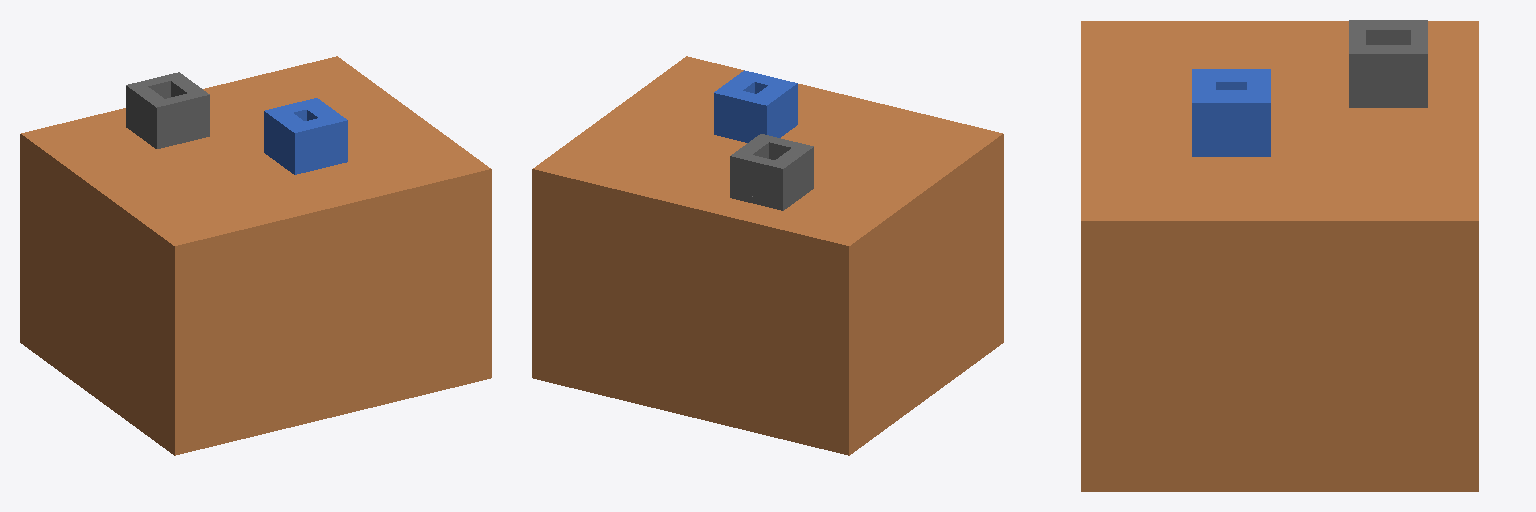
robot.urdf — peg_in_hole_fixtured_scene_0020_peg0011_tol04:
<?xml version="1.0"?>
<robot name="peg_in_hole_fixtured_scene_0020_peg0011_tol04">
  <material name="wood"><color rgba="0.82 0.56 0.35 1.0"/></material>
  <material name="start_fix"><color rgba="0.30 0.50 0.85 1.0"/></material>
  <material name="goal_fix"><color rgba="0.4706 0.4706 0.4706 1.0"/></material>
  <link name="box">
    <visual>
      <origin xyz="0.000000 0.000000 0.000000" rpy="0 0 0"/>
      <geometry><box size="0.475000 0.400000 0.300000"/></geometry>
      <material name="wood"/>
    </visual>
    <collision>
      <origin xyz="0.000000 0.000000 0.000000" rpy="0 0 0"/>
      <geometry><box size="0.475000 0.400000 0.300000"/></geometry>
    </collision>
    <visual>
      <origin xyz="0.046668 -0.048674 0.155000" rpy="0 0 0"/>
      <geometry><box size="0.080000 0.080000 0.010000"/></geometry>
      <material name="start_fix"/>
    </visual>
    <collision>
      <origin xyz="0.046668 -0.048674 0.155000" rpy="0 0 0"/>
      <geometry><box size="0.080000 0.080000 0.010000"/></geometry>
    </collision>
    <visual>
      <origin xyz="0.071918 -0.048674 0.185000" rpy="0 0 0"/>
      <geometry><box size="0.029500 0.080000 0.050000"/></geometry>
      <material name="start_fix"/>
    </visual>
    <collision>
      <origin xyz="0.071918 -0.048674 0.185000" rpy="0 0 0"/>
      <geometry><box size="0.029500 0.080000 0.050000"/></geometry>
    </collision>
    <visual>
      <origin xyz="0.021418 -0.048674 0.185000" rpy="0 0 0"/>
      <geometry><box size="0.029500 0.080000 0.050000"/></geometry>
      <material name="start_fix"/>
    </visual>
    <collision>
      <origin xyz="0.021418 -0.048674 0.185000" rpy="0 0 0"/>
      <geometry><box size="0.029500 0.080000 0.050000"/></geometry>
    </collision>
    <visual>
      <origin xyz="0.046668 -0.020924 0.185000" rpy="0 0 0"/>
      <geometry><box size="0.021000 0.024500 0.050000"/></geometry>
      <material name="start_fix"/>
    </visual>
    <collision>
      <origin xyz="0.046668 -0.020924 0.185000" rpy="0 0 0"/>
      <geometry><box size="0.021000 0.024500 0.050000"/></geometry>
    </collision>
    <visual>
      <origin xyz="0.046668 -0.076424 0.185000" rpy="0 0 0"/>
      <geometry><box size="0.021000 0.024500 0.050000"/></geometry>
      <material name="start_fix"/>
    </visual>
    <collision>
      <origin xyz="0.046668 -0.076424 0.185000" rpy="0 0 0"/>
      <geometry><box size="0.021000 0.024500 0.050000"/></geometry>
    </collision>
    <visual>
      <origin xyz="-0.069084 0.108962 0.155000" rpy="0 0 0"/>
      <geometry><box size="0.080000 0.080000 0.010000"/></geometry>
      <material name="goal_fix"/>
    </visual>
    <collision>
      <origin xyz="-0.069084 0.108962 0.155000" rpy="0 0 0"/>
      <geometry><box size="0.080000 0.080000 0.010000"/></geometry>
    </collision>
    <visual>
      <origin xyz="-0.040504 0.108962 0.185000" rpy="0 0 0"/>
      <geometry><box size="0.022841 0.080000 0.050000"/></geometry>
      <material name="goal_fix"/>
    </visual>
    <collision>
      <origin xyz="-0.040504 0.108962 0.185000" rpy="0 0 0"/>
      <geometry><box size="0.022841 0.080000 0.050000"/></geometry>
    </collision>
    <visual>
      <origin xyz="-0.097663 0.108962 0.185000" rpy="0 0 0"/>
      <geometry><box size="0.022841 0.080000 0.050000"/></geometry>
      <material name="goal_fix"/>
    </visual>
    <collision>
      <origin xyz="-0.097663 0.108962 0.185000" rpy="0 0 0"/>
      <geometry><box size="0.022841 0.080000 0.050000"/></geometry>
    </collision>
    <visual>
      <origin xyz="-0.069084 0.140041 0.185000" rpy="0 0 0"/>
      <geometry><box size="0.034318 0.017841 0.050000"/></geometry>
      <material name="goal_fix"/>
    </visual>
    <collision>
      <origin xyz="-0.069084 0.140041 0.185000" rpy="0 0 0"/>
      <geometry><box size="0.034318 0.017841 0.050000"/></geometry>
    </collision>
    <visual>
      <origin xyz="-0.069084 0.077882 0.185000" rpy="0 0 0"/>
      <geometry><box size="0.034318 0.017841 0.050000"/></geometry>
      <material name="goal_fix"/>
    </visual>
    <collision>
      <origin xyz="-0.069084 0.077882 0.185000" rpy="0 0 0"/>
      <geometry><box size="0.034318 0.017841 0.050000"/></geometry>
    </collision>
    <inertial>
      <mass value="500"/>
      <friction value="1.0"/>
      <inertia ixx="1000.0" ixy="0.0" ixz="0.0" iyy="1000.0" iyz="0.0" izz="1000.0"/>
    </inertial>
  </link>
</robot>

--- What the picture shows (computed from the rendered views, not written in the file) ---
The picture shows the robot from 3 angles, left to right: view 1: azimuth 30°, elevation 25°; view 2: azimuth 150°, elevation 25°; view 3: azimuth 270°, elevation 25°; orthographic projection.
Robot: peg_in_hole_fixtured_scene_0020_peg0011_tol04 — 1 links, 0 joints (none); root link box; default pose: all joints at 0.
Links seen in each view (by area): view 1: box; view 2: box; view 3: box.
Link boxes in pixels (x1,y1,x2,y2): box: [20, 56, 491, 455]; box: [532, 56, 1003, 455]; box: [1081, 20, 1478, 491].
Bounding box of the posed robot: 0.475 × 0.4 × 0.36 m (x, y, z).
Geometry: primitives only (box / cylinder / sphere), no mesh files.
